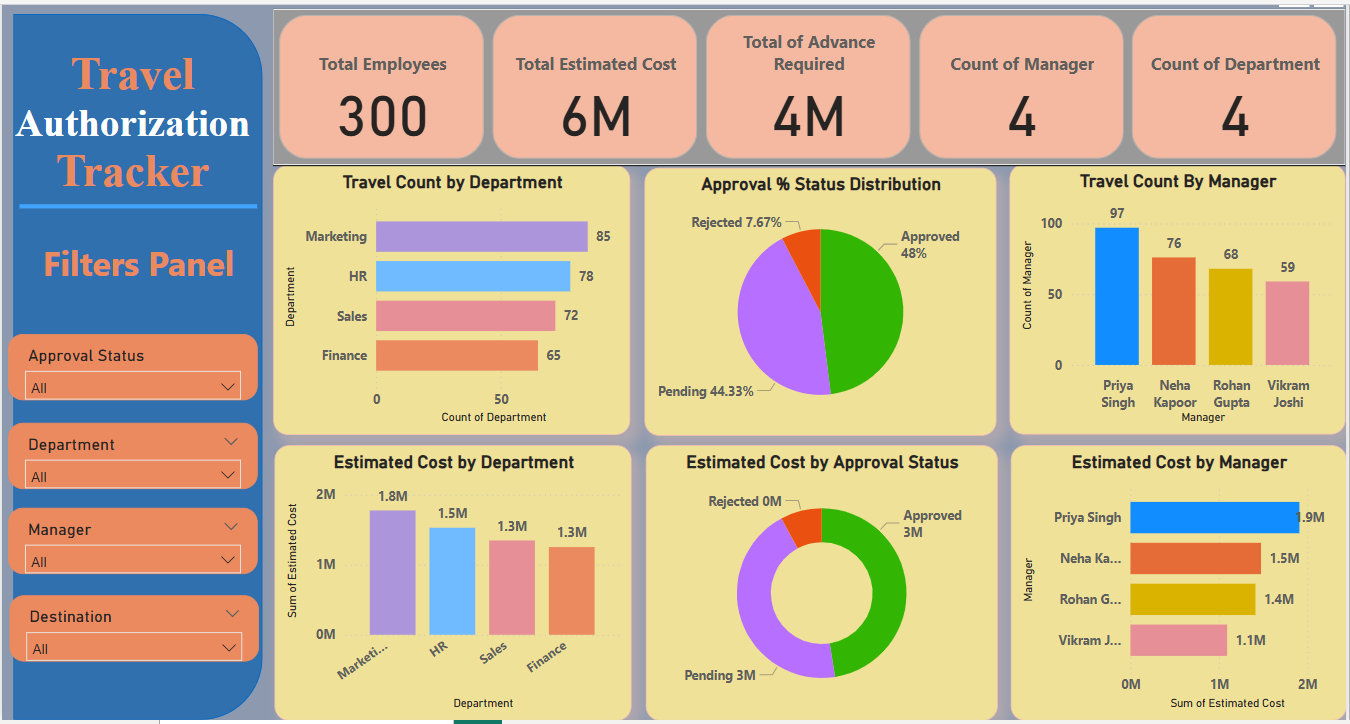

Layout of this report page (visuals, bound fields, positions):
{"tool":"powerbi","page":{"name":"ravel Authorization tracker_Analysis","canvas":[1280,720],"ordinal":0},"visuals":[{"type":"shape","box":[11,48,237.4,672.4],"z":0},{"type":"barChart","title":"Travel Count by Department","fields":{"Category":["TravelData.Department"],"Y":["TravelData.Department"]},"box":[258,192.1,340.3,256.6],"z":1000},{"type":"pieChart","title":" Approval % Status Distribution","fields":{"Category":["TravelData.Approval Status"],"Y":["TravelData.Approval Status"]},"box":[612,193.5,334.8,255.2],"z":2000},{"type":"columnChart","title":"Travel Count By Manager","fields":{"Category":["TravelData.Manager"],"Y":["TravelData.Manager"]},"box":[959.2,190.7,319.7,258],"z":3000},{"type":"columnChart","title":" Estimated Cost by Department","fields":{"Category":["TravelData.Department"],"Y":["TravelData.Estimated Cost"]},"box":[259.3,458.3,340.3,262.1],"z":4000},{"type":"donutChart","title":"Estimated Cost by Approval Status","fields":{"Category":["TravelData.Approval Status"],"Y":["TravelData.Estimated Cost"]},"box":[613.4,458.3,334.8,262.1],"z":5000},{"type":"barChart","title":" Estimated Cost by Manager","fields":{"Category":["TravelData.Manager"],"Y":["TravelData.Estimated Cost"]},"box":[960.6,458.3,319.7,262.1],"z":6000},{"type":"cardVisual","fields":{"Data":["TravelData.Employee ID","TravelData.Estimated Cost","TravelData.Advance Required","TravelData.Manager","TravelData.Department"]},"box":[258,42.5,1020.9,149.6],"z":7000},{"type":"textbox","box":[0,75.5,248.4,245.6],"z":8000},{"type":"shape","box":[16.5,150.9,226.4,159.2],"z":9000},{"type":"textbox","box":[16.5,258,226.4,61.7],"z":10000},{"type":"slicer","fields":{"Values":["TravelData.Approval Status"]},"box":[5.5,352.7,237.4,63.1],"z":11000},{"type":"slicer","fields":{"Values":["TravelData.Department"]},"box":[5.5,436.4,237.4,63.1],"z":12000},{"type":"slicer","fields":{"Values":["TravelData.Manager"]},"box":[5.5,517.3,237.4,63.1],"z":13000},{"type":"slicer","fields":{"Values":["TravelData.Destination"]},"box":[6.9,601,237.4,63.1],"z":14000}]}

Visuals, with their boxes in screenshot pixels (x1, y1, x2, y2):
shape: 5, 9, 258, 723
"Travel Count by Department" barChart: 268, 163, 631, 436
" Approval % Status Distribution" pieChart: 645, 164, 1002, 436
"Travel Count By Manager" columnChart: 1016, 161, 1349, 436
" Estimated Cost by Department" columnChart: 269, 446, 632, 723
"Estimated Cost by Approval Status" donutChart: 647, 446, 1004, 723
" Estimated Cost by Manager" barChart: 1017, 446, 1349, 723
cardVisual - TravelData.Employee ID x TravelData.Estimated Cost: 268, 3, 1349, 163
textbox: 0, 38, 258, 300
shape: 11, 119, 252, 288
textbox: 11, 233, 252, 299
slicer - TravelData.Approval Status: 0, 334, 252, 401
slicer - TravelData.Department: 0, 423, 252, 490
slicer - TravelData.Manager: 0, 509, 252, 577
slicer - TravelData.Destination: 0, 599, 253, 666
